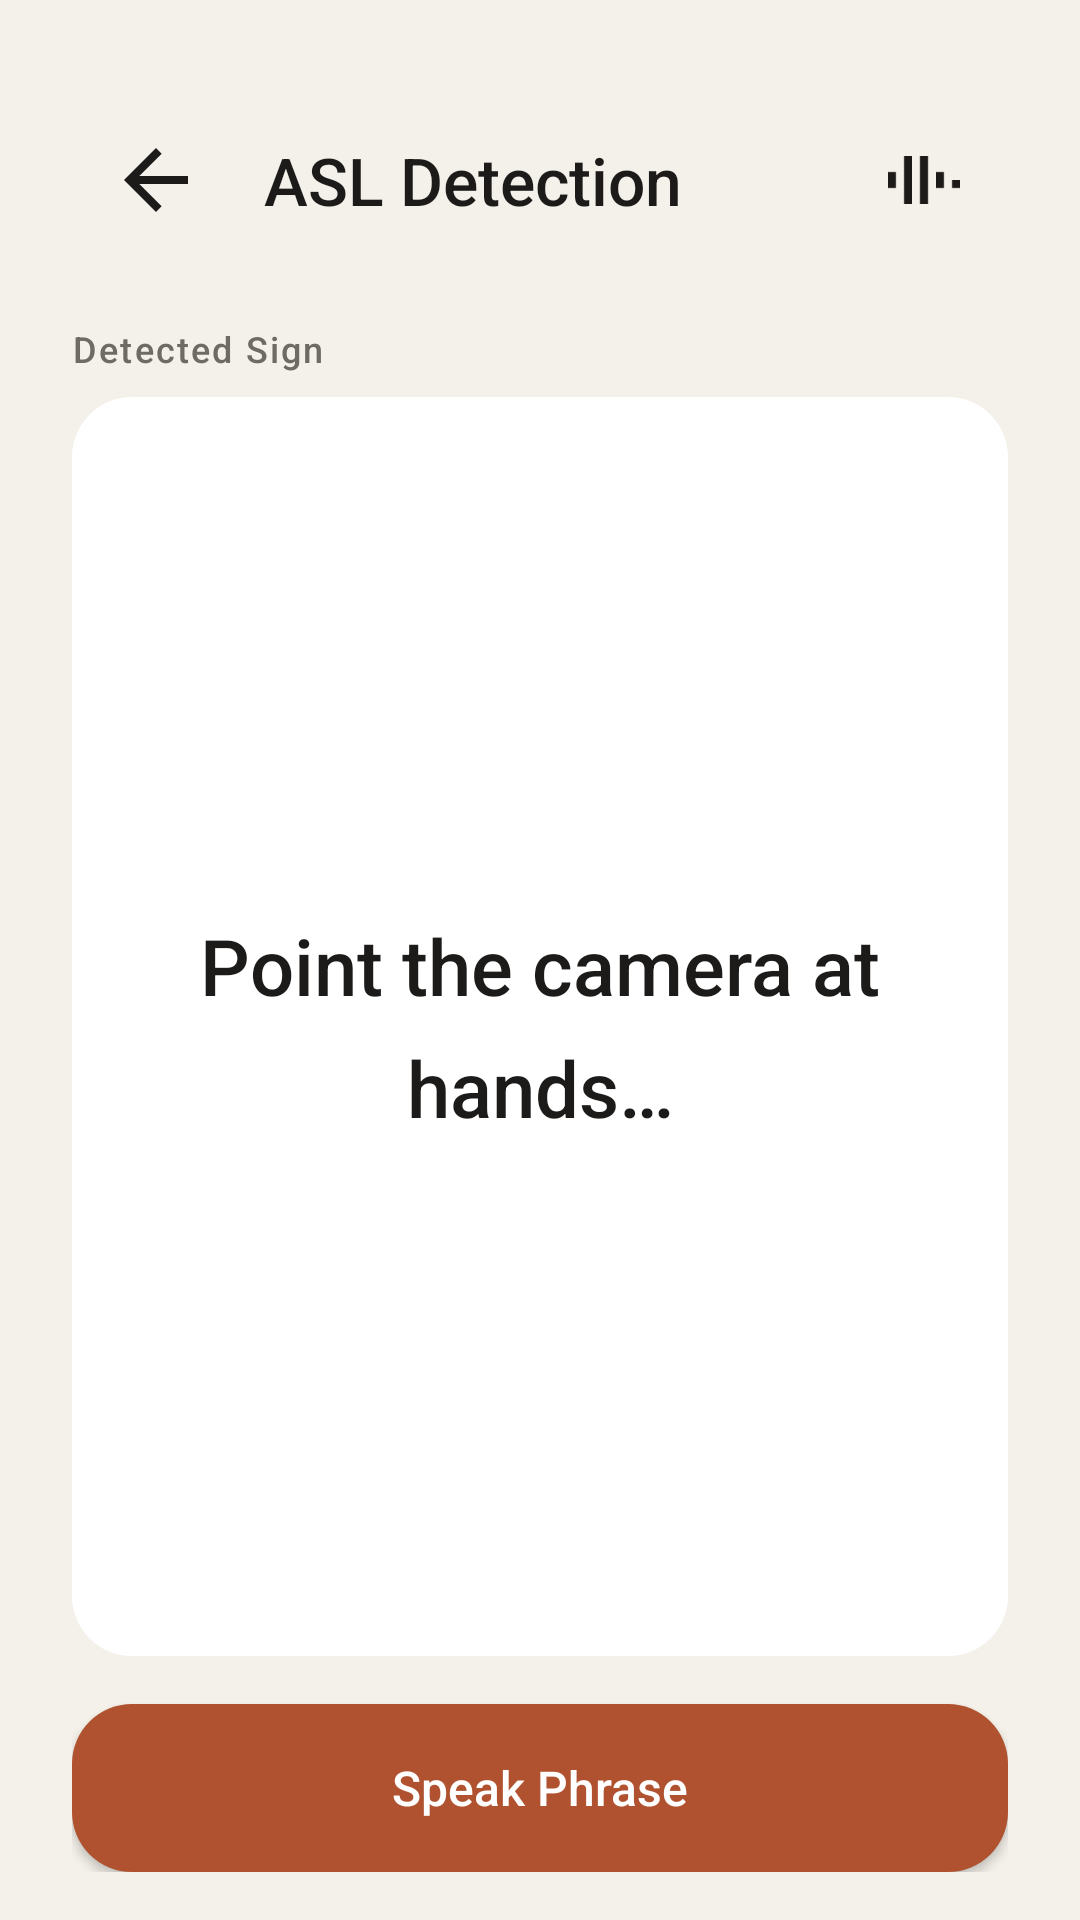

Locate icon controls on the screen. Image size 1080w x 1920h, boxes as BBox(x1, y1, x2, y2).
Go back to dashboard: BBox(124, 148, 188, 212)
Help. Hear how this screen works: BBox(888, 156, 960, 204)
